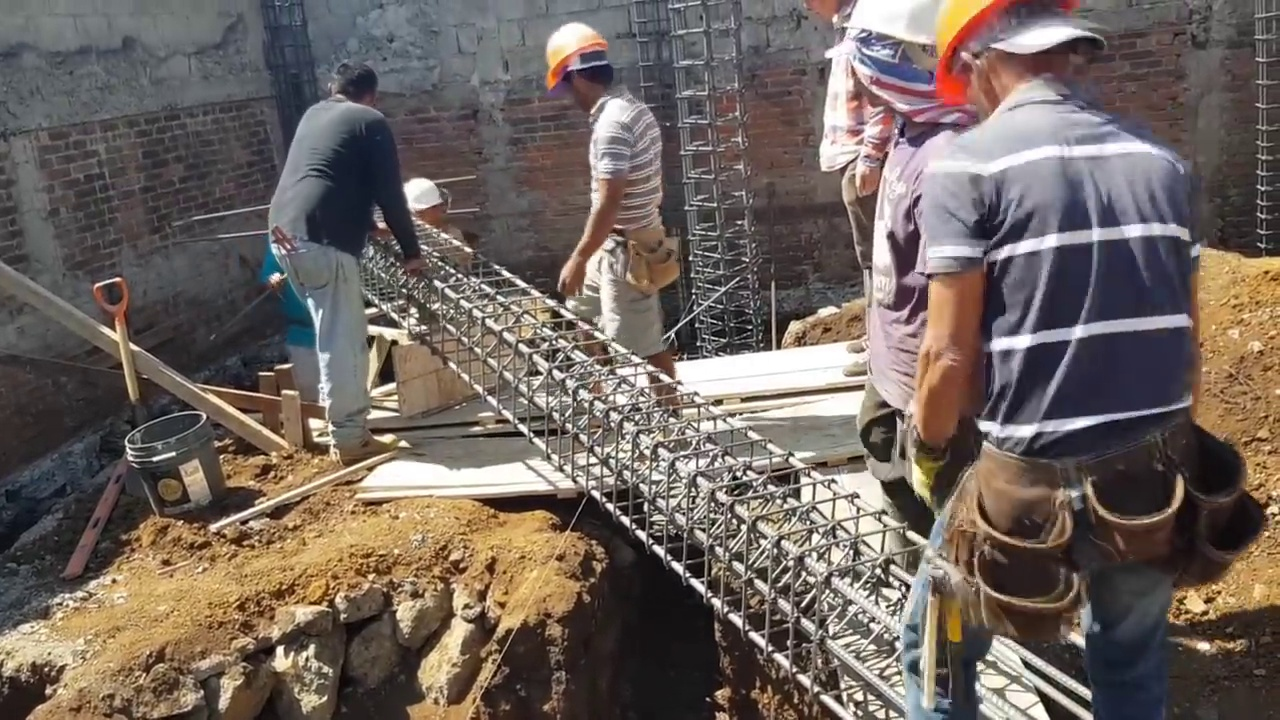helmet: (931, 2, 1092, 109), (843, 0, 940, 54), (541, 22, 611, 79), (402, 176, 440, 208)
helmet-off: (327, 64, 374, 108), (802, 0, 840, 33)
helmet-on: (929, 0, 1112, 119), (841, 0, 943, 132), (546, 14, 619, 117), (402, 168, 454, 233)
person: (869, 0, 1231, 719), (840, 0, 988, 537), (274, 47, 424, 480), (541, 27, 671, 388), (798, 0, 898, 273)
